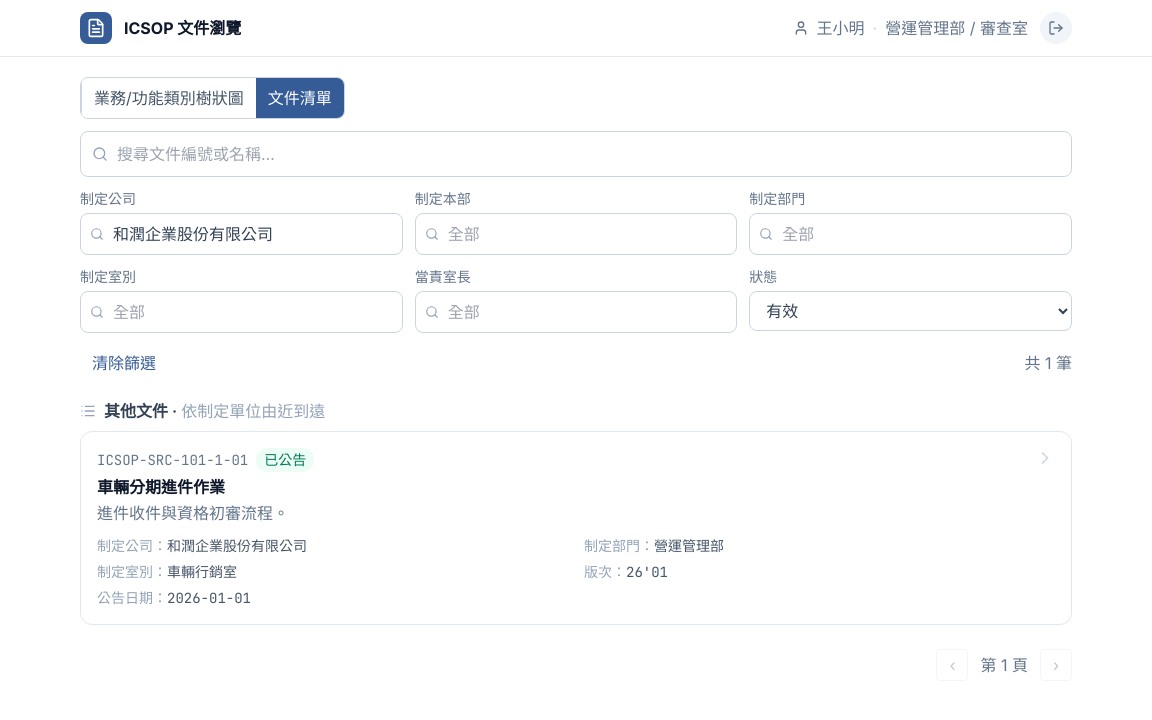
it: F019 AC-D3：清除篩選涵蓋 5 項與關鍵字 › TS-F019-D3-001 點擊「清除篩選」→ 五項篩選與關鍵字同時清空、重新查詢未篩選清單
Expected: the heading "車輛分期進件作業" is shown, x1=97 y1=477 x2=225 y2=497
Type "進件" into the search field labelled "搜尋文件編號或名稱".
click(576, 154); type("進件")  # box x1=80 y1=131 x2=1072 y2=177
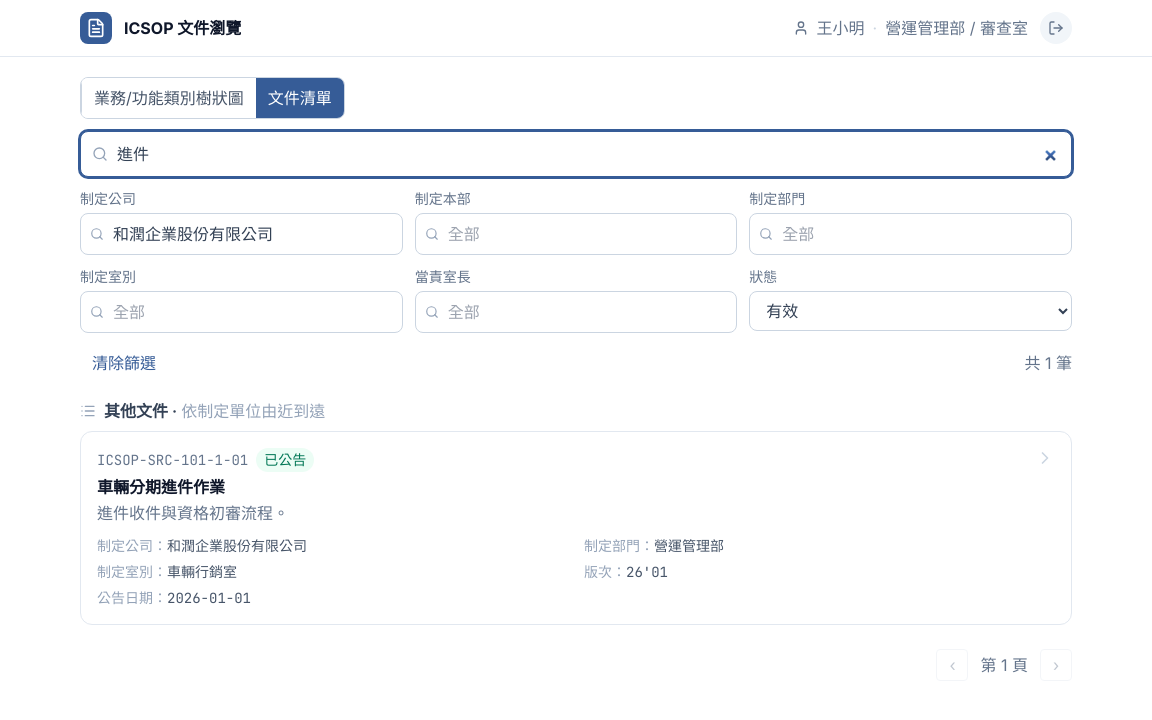
Click the dropdown labelled "制定部門".
click(911, 234)  # box x1=749 y1=213 x2=1072 y2=255
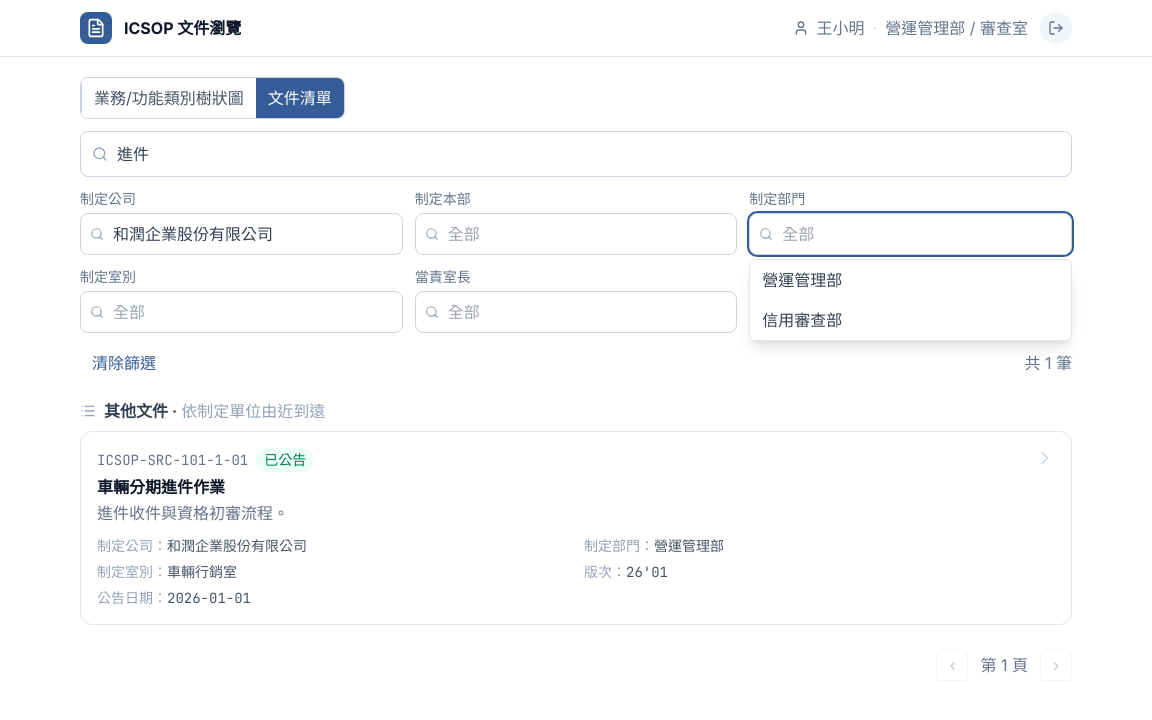
Click the option "營運管理部".
click(802, 280)  # box x1=750 y1=260 x2=1071 y2=300
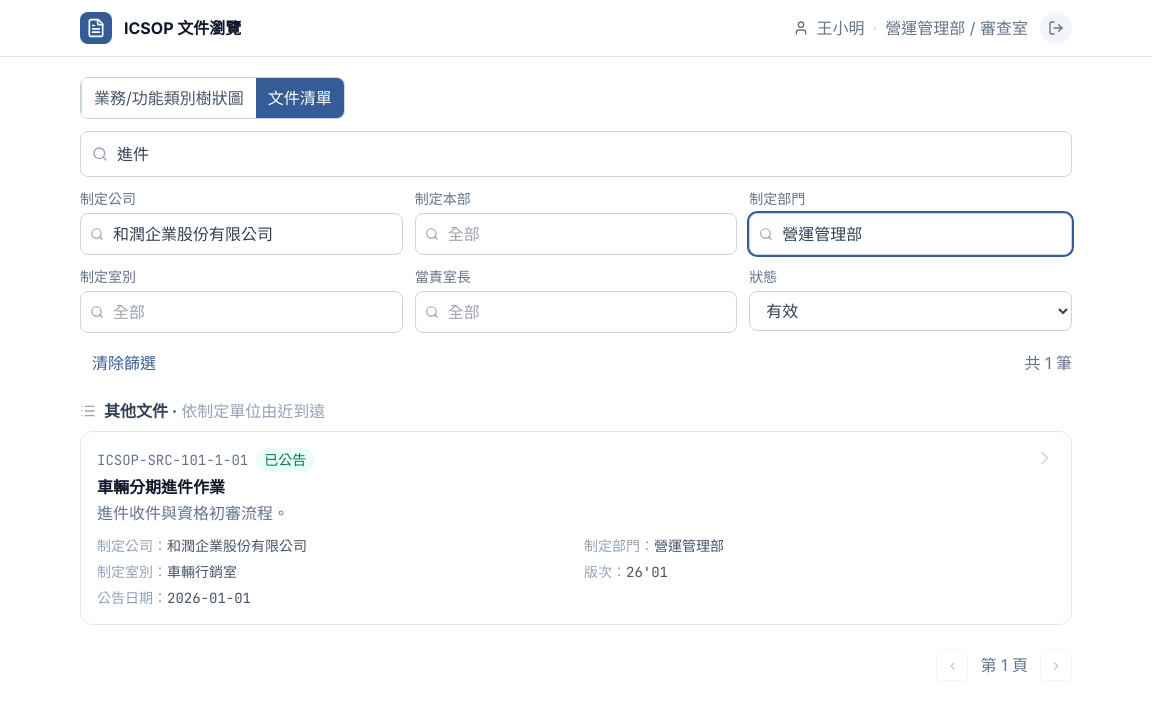
Click the dropdown labelled "當責室長".
click(576, 312)  # box x1=415 y1=291 x2=737 y2=333
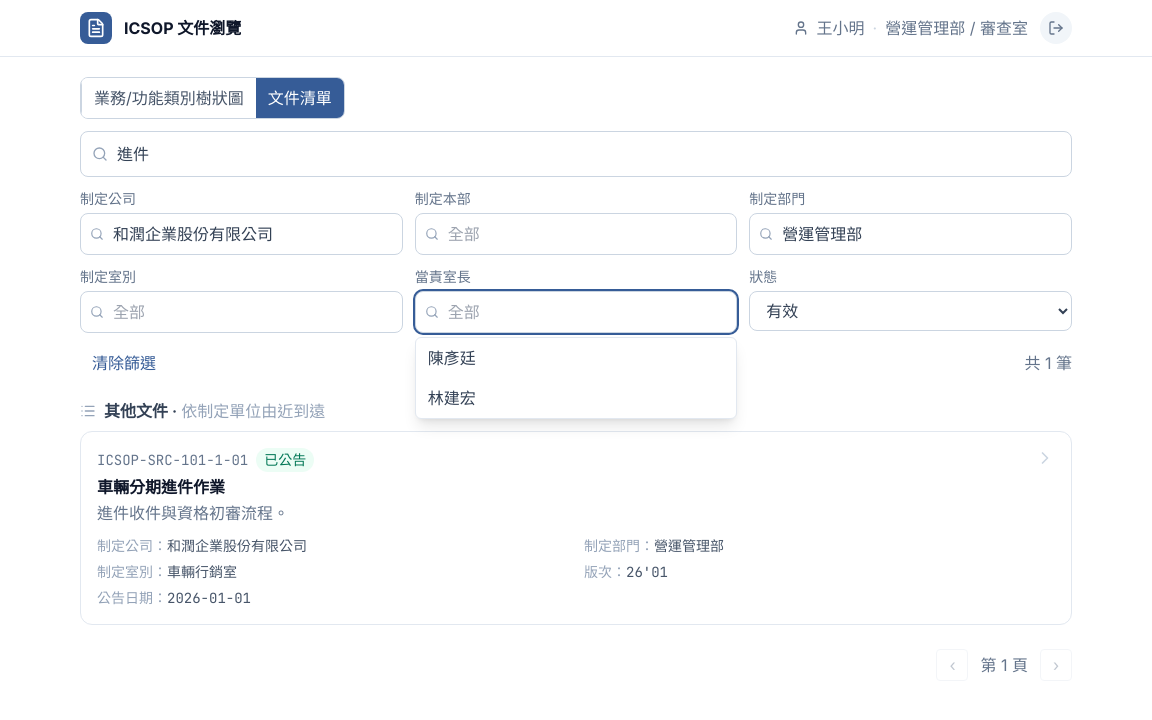
Click the option "陳彥廷".
click(452, 358)  # box x1=416 y1=338 x2=736 y2=378
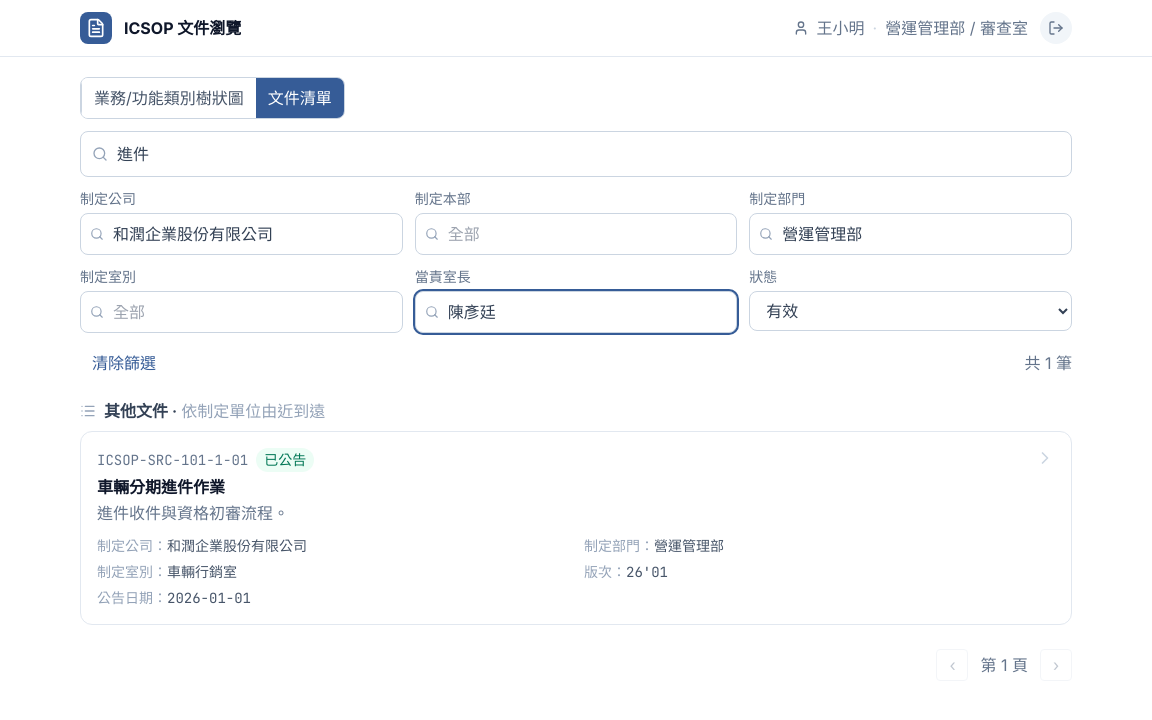
Click the button "清除篩選".
click(124, 363)  # box x1=80 y1=343 x2=168 y2=383
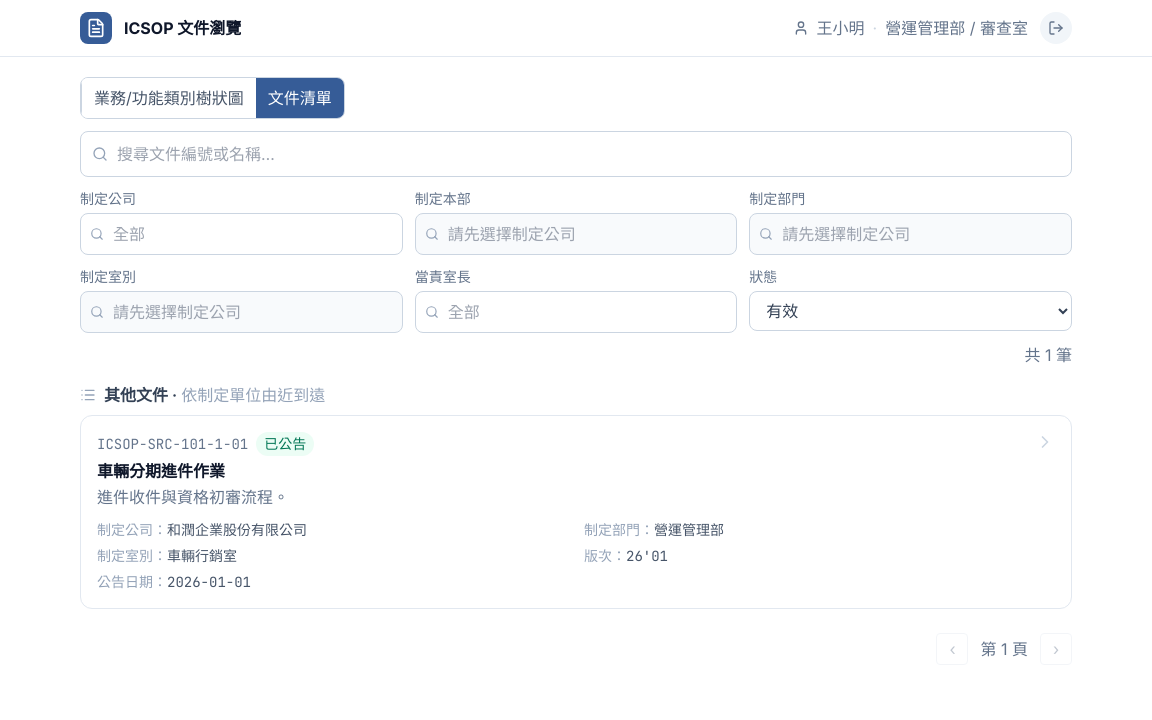
Expected: the search field labelled "搜尋文件編號或名稱" is empty, x1=80 y1=131 x2=1072 y2=177
Expected: the dropdown labelled "制定公司" is empty, x1=80 y1=213 x2=403 y2=255
Expected: the dropdown labelled "制定部門" is empty, x1=749 y1=213 x2=1072 y2=255
